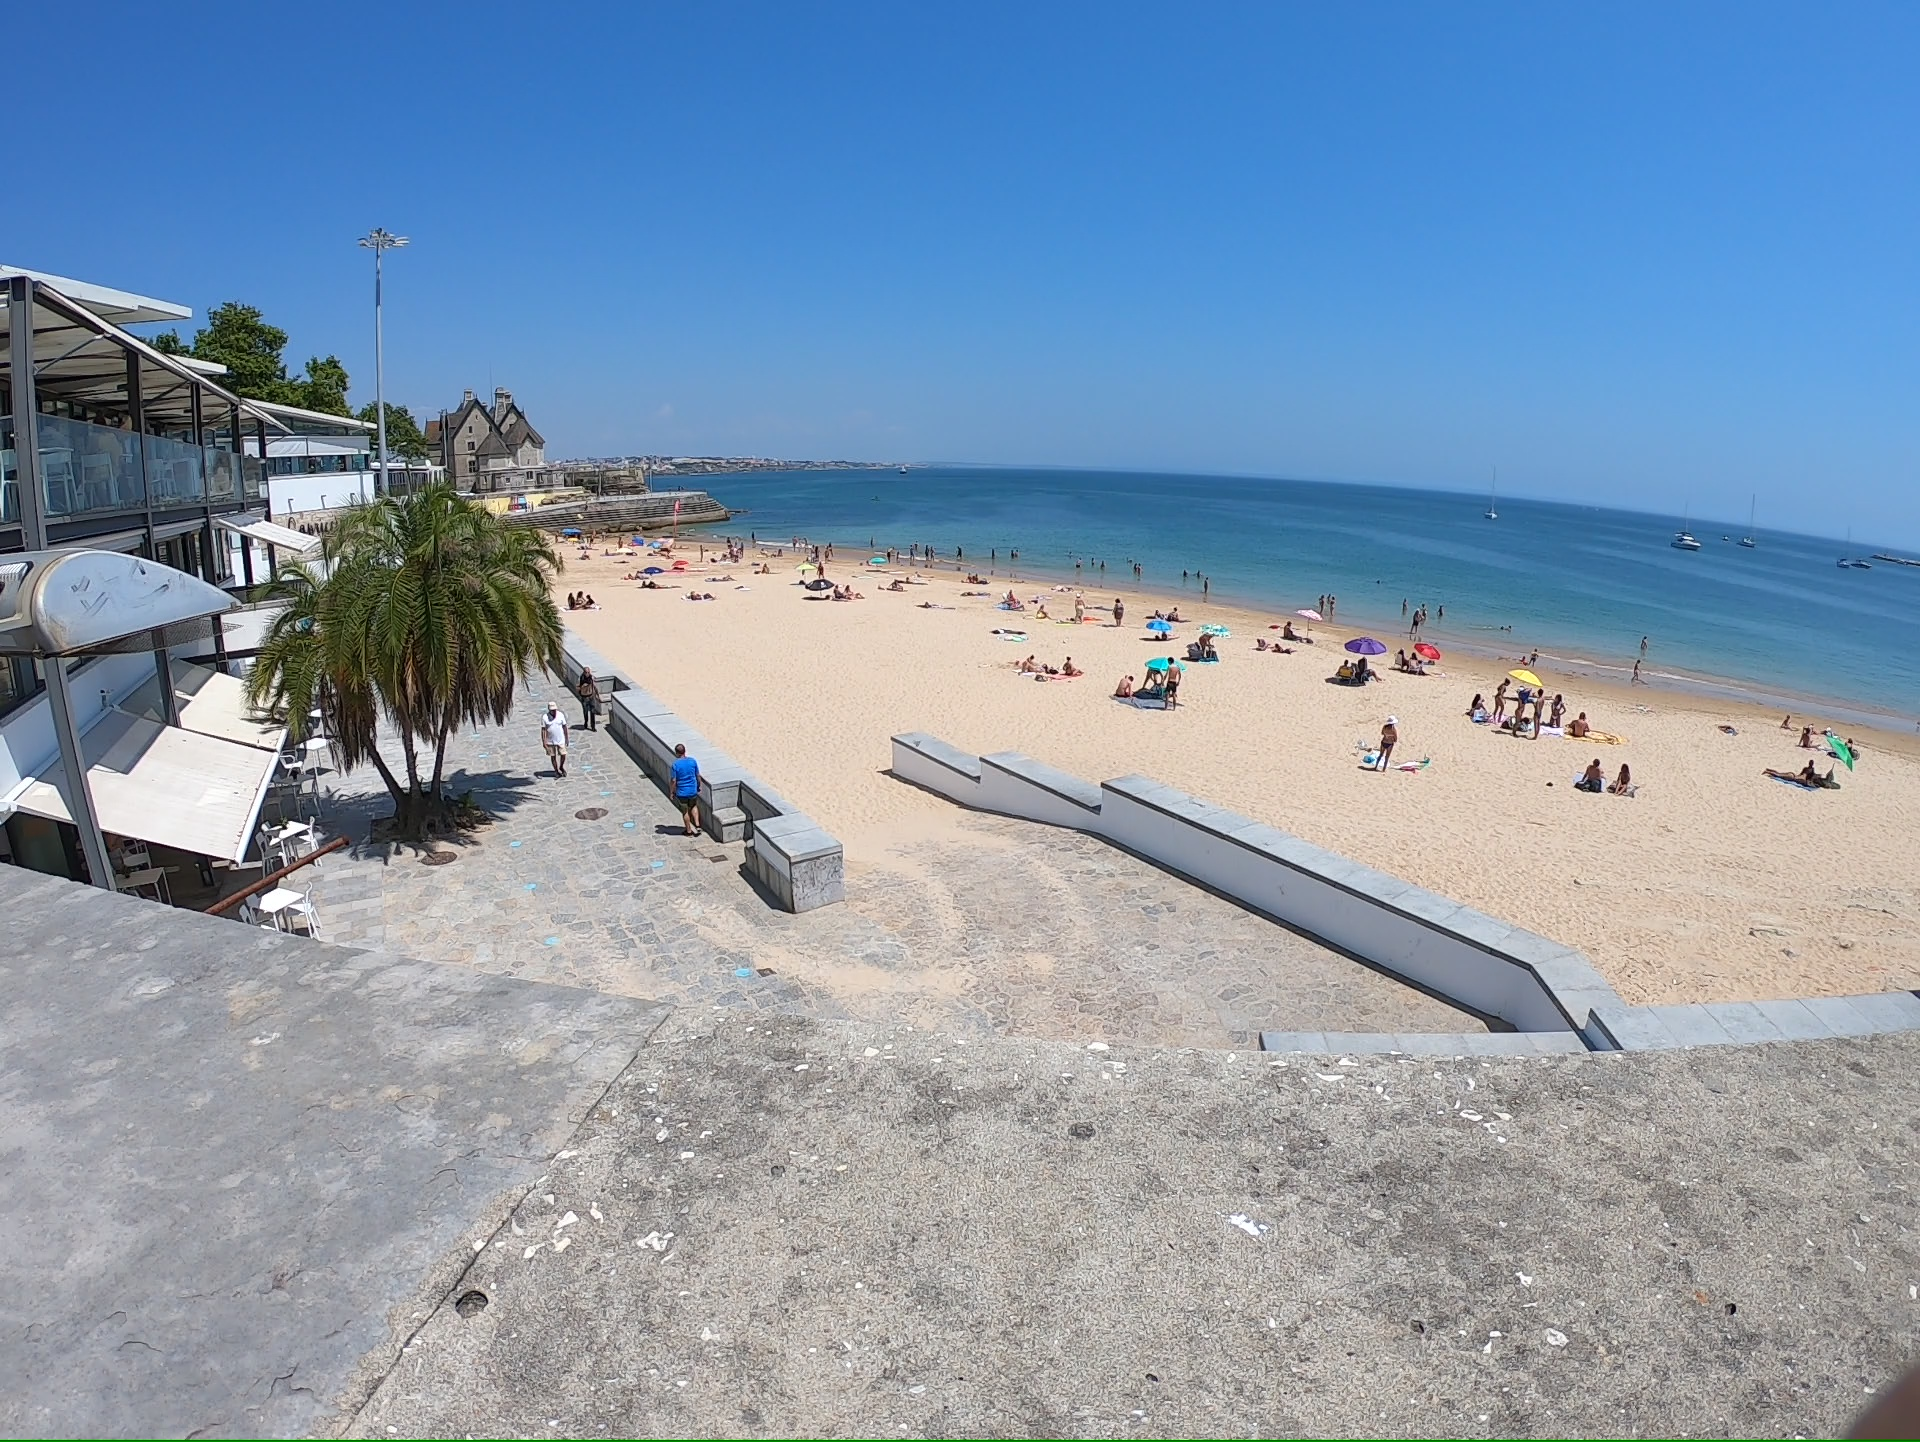person: (665, 741, 702, 791), (535, 702, 568, 734), (576, 663, 600, 709), (1378, 714, 1399, 756), (1514, 684, 1527, 738), (1616, 761, 1632, 792), (1164, 655, 1183, 682), (1585, 757, 1604, 780), (1572, 710, 1590, 733), (1119, 672, 1137, 694), (1337, 657, 1354, 680), (1533, 688, 1545, 713), (1802, 726, 1815, 748), (1020, 654, 1039, 671), (1062, 655, 1076, 674), (1549, 693, 1566, 711), (1801, 759, 1818, 774), (1497, 678, 1512, 694), (1112, 597, 1125, 613), (1472, 690, 1484, 707), (1845, 734, 1857, 752), (1394, 646, 1406, 662), (1073, 592, 1085, 609), (567, 590, 575, 610), (1409, 652, 1424, 664), (1169, 607, 1182, 619), (586, 593, 595, 610), (1035, 601, 1047, 616), (1284, 618, 1293, 635), (1782, 714, 1792, 730), (832, 581, 840, 598), (698, 542, 705, 562), (760, 561, 770, 573), (890, 578, 901, 591), (816, 559, 824, 574), (844, 583, 851, 597), (577, 591, 582, 603)
